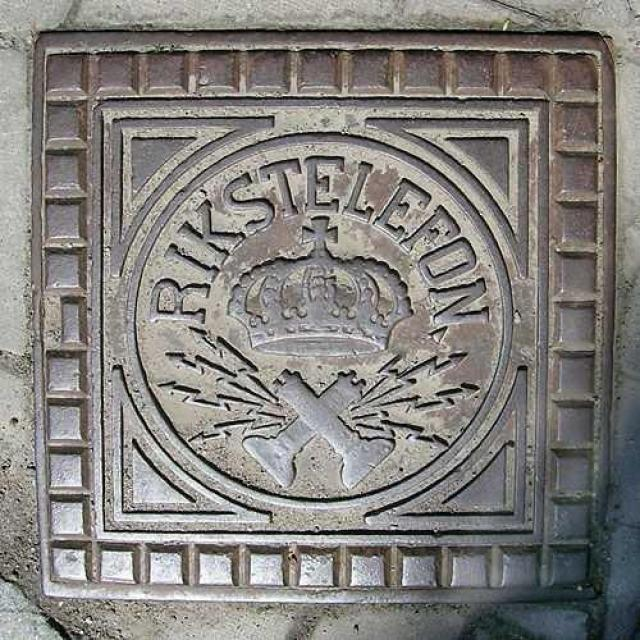manhole: (35, 35, 610, 602)
